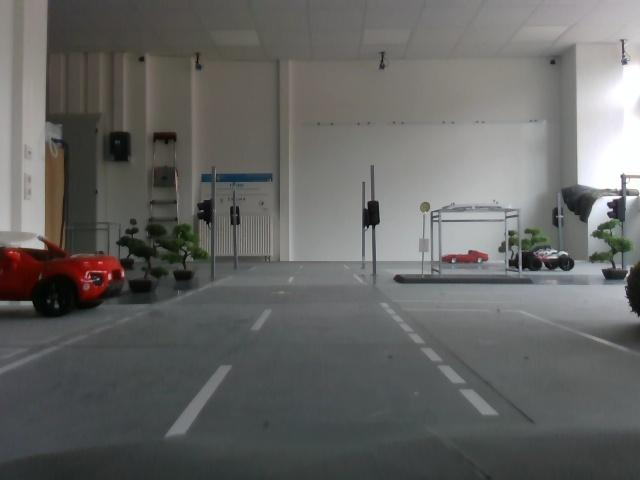car: (1, 230, 125, 315), (519, 245, 574, 275), (446, 246, 492, 268)
potted plant: (162, 219, 202, 285), (597, 223, 633, 286), (133, 226, 154, 298)
traffic light: (196, 196, 216, 228), (368, 203, 385, 230)
